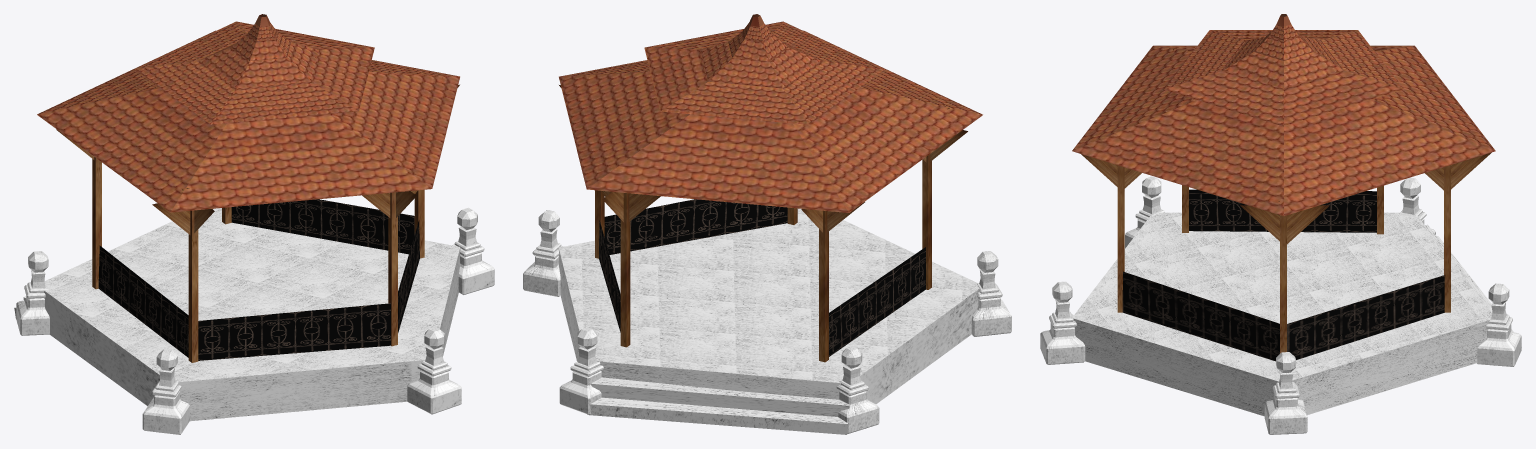
Rendered from Kiosco.obj.
3 renders of one model, left to right at view 1: azimuth 30°, elevation 25°; view 2: azimuth 150°, elevation 25°; view 3: azimuth 270°, elevation 25°, orthographic. The views are drawn at different scales.
Parts seen in each view (by area): view 1: Icosphere_002_Piso__001, Icosphere_001_Techo_001, Icosphere_004_Techo_001, Plane_008_Textura_rejas_001, Plane_006_Textura_rejas_001, Plane_005_Textura_rejas_001, Cube_007_Piso_escalera_001, Cube_009_Piso_escalera_001, Cube_010_Piso_escalera_001, Cube_008_Piso_escalera_001, Cube_014_textura_vigas_001, Cube_016_textura_vigas_001 (+5 smaller); view 2: Icosphere_002_Piso__001, Icosphere_001_Techo_001, Icosphere_004_Techo_001, Plane_007_Textura_rejas_001, Cube_011_Piso_escalera_001, Cube_012_Piso_escalera_001, Plane_005_Textura_rejas_001, Cube_006_Piso_escalera_001, Cube_009_Piso_escalera_001, Cube_008_Piso_escalera_001, Cube_010_Piso_escalera_001, Cube_017_textura_vigas_001 (+6 smaller); view 3: Icosphere_002_Piso__001, Icosphere_001_Techo_001, Icosphere_004_Techo_001, Plane_007_Textura_rejas_001, Plane_006_Textura_rejas_001, Plane_005_Textura_rejas_001, Cube_010_Piso_escalera_001, Cube_007_Piso_escalera_001, Cube_006_Piso_escalera_001, Plane_002_textura_vigas_001, Cube_016_textura_vigas_001, Cube_017_textura_vigas_001 (+5 smaller).
Boxes of the visible parts, x1,y1,x2,y2 form: Icosphere_002_Piso__001: (44, 208, 460, 421); Icosphere_001_Techo_001: (37, 30, 459, 212); Icosphere_004_Techo_001: (135, 14, 374, 124); Plane_008_Textura_rejas_001: (198, 303, 390, 360); Plane_006_Textura_rejas_001: (231, 199, 414, 254); Plane_005_Textura_rejas_001: (98, 245, 188, 357); Cube_007_Piso_escalera_001: (407, 327, 461, 414); Cube_009_Piso_escalera_001: (142, 349, 189, 434); Cube_010_Piso_escalera_001: (452, 207, 494, 294); Cube_008_Piso_escalera_001: (16, 251, 49, 335); Cube_014_textura_vigas_001: (188, 210, 198, 362); Cube_016_textura_vigas_001: (388, 192, 397, 346); Icosphere_002_Piso__001: (558, 208, 979, 403); Icosphere_001_Techo_001: (559, 30, 982, 212); Icosphere_004_Techo_001: (644, 15, 884, 124); Plane_007_Textura_rejas_001: (604, 199, 787, 254); Cube_011_Piso_escalera_001: (587, 397, 848, 434); Cube_012_Piso_escalera_001: (590, 377, 849, 416); Plane_005_Textura_rejas_001: (829, 247, 925, 356); Cube_006_Piso_escalera_001: (559, 327, 603, 414); Cube_009_Piso_escalera_001: (971, 251, 1011, 336); Cube_008_Piso_escalera_001: (836, 346, 879, 433); Cube_010_Piso_escalera_001: (523, 210, 563, 296); Cube_017_textura_vigas_001: (620, 193, 630, 347); Icosphere_002_Piso__001: (1073, 212, 1492, 416); Icosphere_001_Techo_001: (1072, 45, 1495, 216); Icosphere_004_Techo_001: (1164, 14, 1403, 126); Plane_007_Textura_rejas_001: (1122, 271, 1279, 361); Plane_006_Textura_rejas_001: (1287, 275, 1444, 359); Plane_005_Textura_rejas_001: (1189, 189, 1376, 232); Cube_010_Piso_escalera_001: (1264, 352, 1307, 434); Cube_007_Piso_escalera_001: (1040, 281, 1085, 364); Cube_006_Piso_escalera_001: (1477, 283, 1521, 366); Plane_002_textura_vigas_001: (1240, 205, 1329, 244); Cube_016_textura_vigas_001: (1117, 165, 1124, 312); Cube_017_textura_vigas_001: (1444, 165, 1450, 312).
Size of the model in its own units: 134 by 100 by 139.
Materials: 5 (5 with a texture image).
